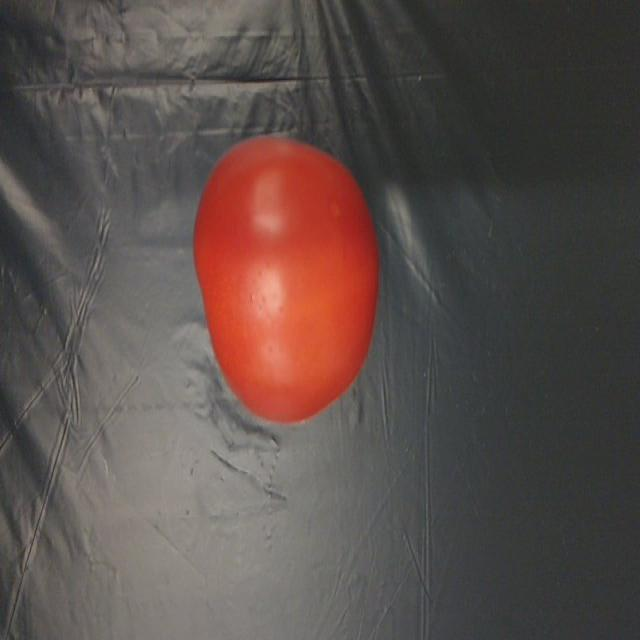kirmizi: (184, 128, 379, 424)
